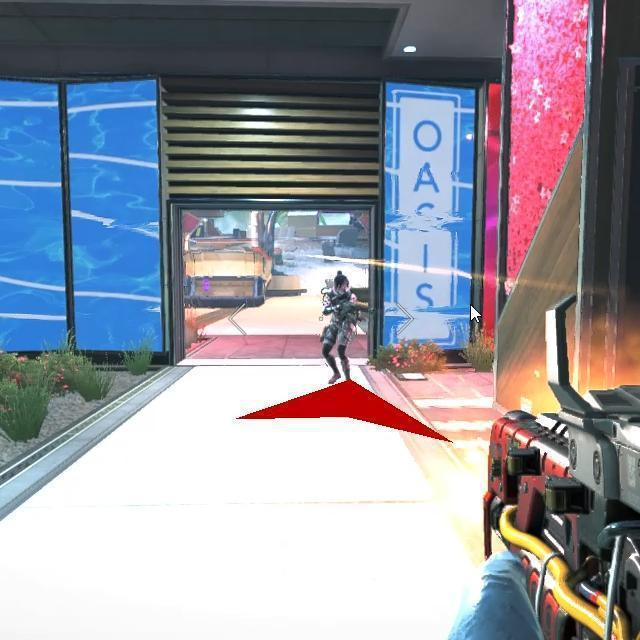avatar: (316, 272, 359, 385)
